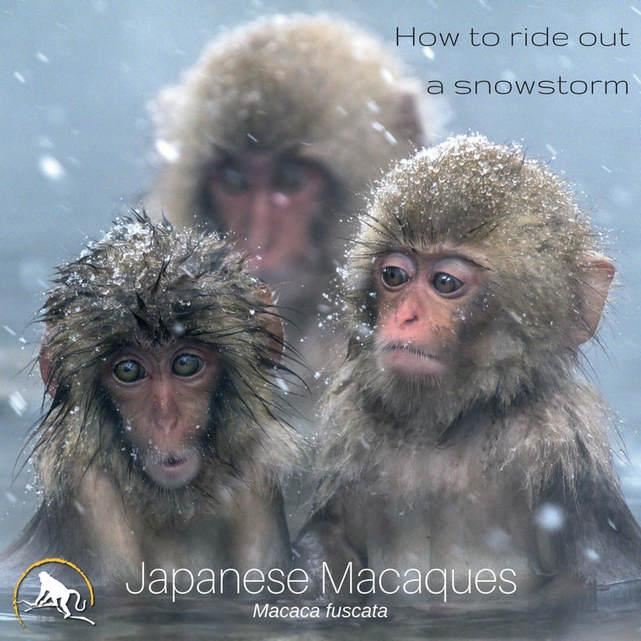monkey: (280, 135, 641, 617)
